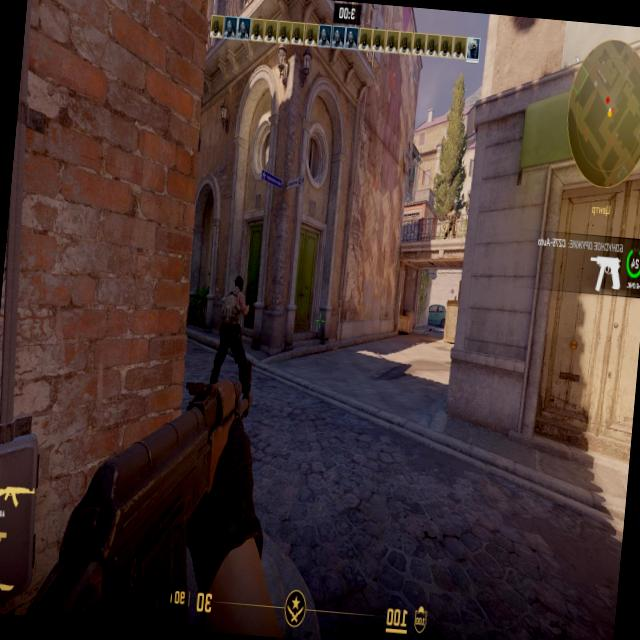T: (216, 274, 247, 376)
T_heat: (232, 272, 243, 294)
